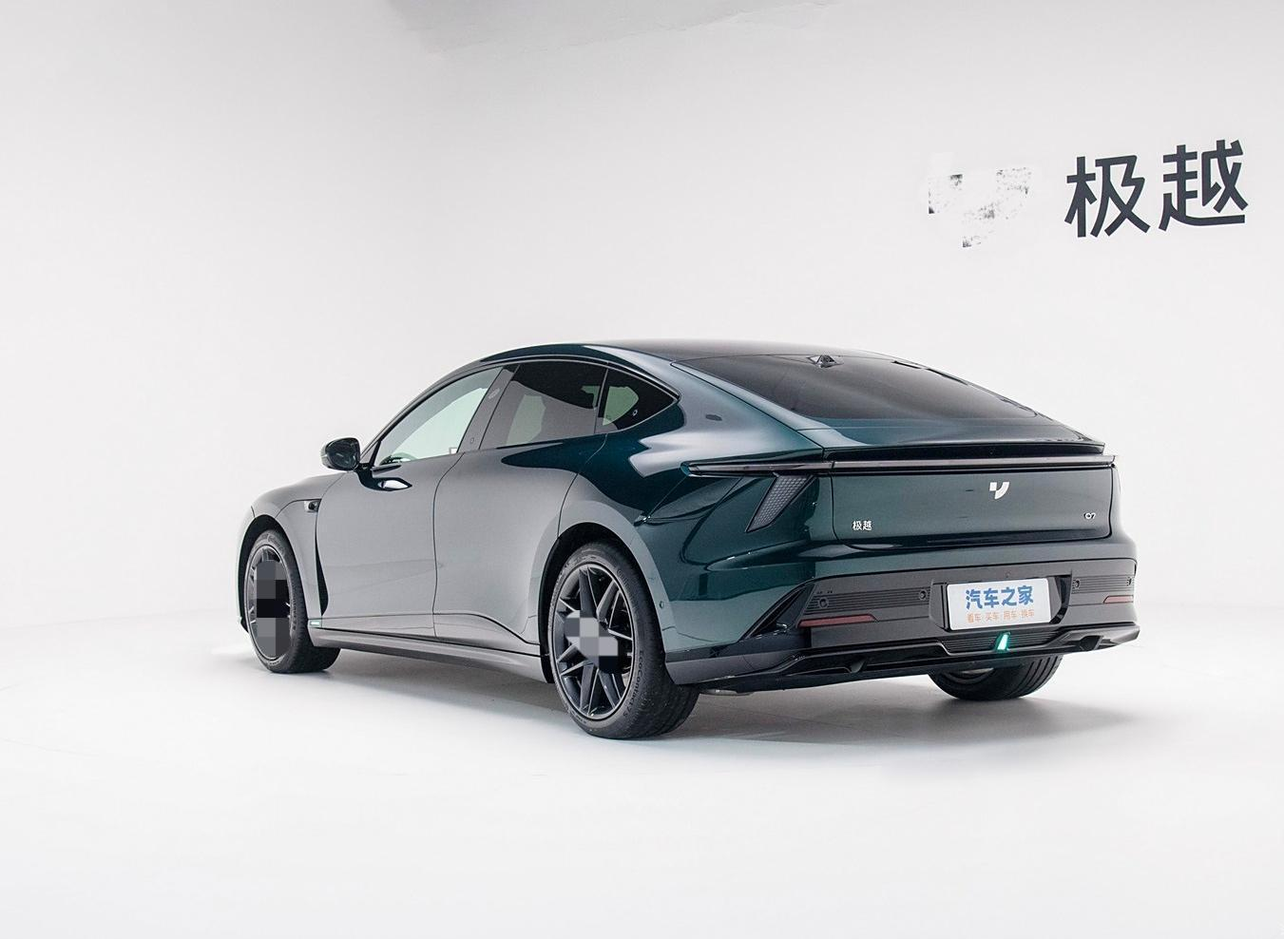JIYUE: (988, 480, 1010, 500)
